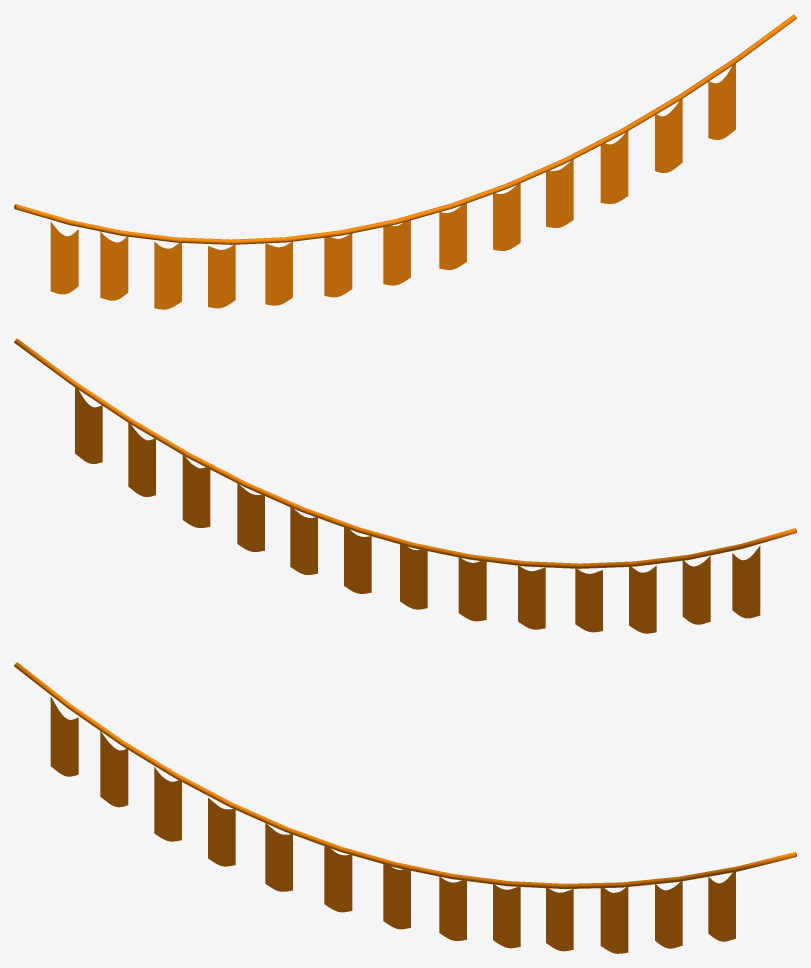
Rendered from SM_Fanion_2,5.fbx.
The picture shows the model from 3 angles, top to bottom: view 1: azimuth 30°, elevation 25°; view 2: azimuth 150°, elevation 25°; view 3: azimuth 330°, elevation 25°; orthographic projection.
Visible parts, largest first — view 1: Corde_02_l, Dapreau_24_l, Dapreau_18_l, Dapreau_22_l, Dapreau_21_l, Dapreau_23_l, Dapreau_20_l, Dapreau_26_l, Dapreau_19_l, Dapreau_29_l, Dapreau_30_l, Dapreau_25_l (+2 smaller); view 2: Corde_02_l, Dapreau_24_l, Dapreau_18_l, Dapreau_22_l, Dapreau_21_l, Dapreau_23_l, Dapreau_20_l, Dapreau_26_l, Dapreau_19_l, Dapreau_29_l, Dapreau_30_l, Dapreau_25_l (+2 smaller); view 3: Corde_02_l, Dapreau_24_l, Dapreau_18_l, Dapreau_21_l, Dapreau_22_l, Dapreau_23_l, Dapreau_20_l, Dapreau_26_l, Dapreau_19_l, Dapreau_29_l, Dapreau_25_l, Dapreau_27_l (+2 smaller).
Boxes of the visible parts, x1,y1,x2,y2 form: Corde_02_l: [14, 14, 796, 244]; Dapreau_24_l: [600, 131, 628, 203]; Dapreau_18_l: [50, 221, 78, 294]; Dapreau_22_l: [100, 231, 128, 300]; Dapreau_21_l: [154, 241, 181, 309]; Dapreau_23_l: [708, 63, 735, 139]; Dapreau_20_l: [324, 233, 352, 297]; Dapreau_26_l: [655, 99, 682, 172]; Dapreau_19_l: [383, 220, 410, 285]; Dapreau_29_l: [265, 241, 292, 305]; Dapreau_30_l: [208, 244, 235, 308]; Dapreau_25_l: [493, 183, 520, 250]; Corde_02_l: [14, 338, 796, 568]; Dapreau_24_l: [182, 455, 210, 527]; Dapreau_18_l: [732, 545, 760, 618]; Dapreau_22_l: [682, 555, 710, 624]; Dapreau_21_l: [629, 565, 656, 633]; Dapreau_23_l: [75, 387, 102, 463]; Dapreau_20_l: [458, 557, 486, 621]; Dapreau_26_l: [128, 423, 155, 496]; Dapreau_19_l: [400, 544, 427, 609]; Dapreau_29_l: [518, 565, 545, 629]; Dapreau_30_l: [575, 568, 602, 632]; Dapreau_25_l: [290, 507, 317, 574]; Corde_02_l: [14, 662, 796, 889]; Dapreau_24_l: [600, 887, 628, 953]; Dapreau_18_l: [50, 696, 78, 776]; Dapreau_21_l: [154, 767, 181, 841]; Dapreau_22_l: [100, 731, 128, 807]; Dapreau_23_l: [708, 872, 735, 941]; Dapreau_20_l: [324, 846, 352, 912]; Dapreau_26_l: [655, 881, 682, 948]; Dapreau_19_l: [383, 864, 410, 929]; Dapreau_29_l: [265, 823, 292, 891]; Dapreau_25_l: [493, 884, 520, 948]; Dapreau_27_l: [546, 888, 573, 951].
Size of the model in its own units: 419 by 2.5 by 88.95.
